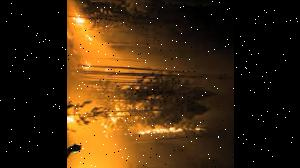fire: (66, 10, 209, 148)
